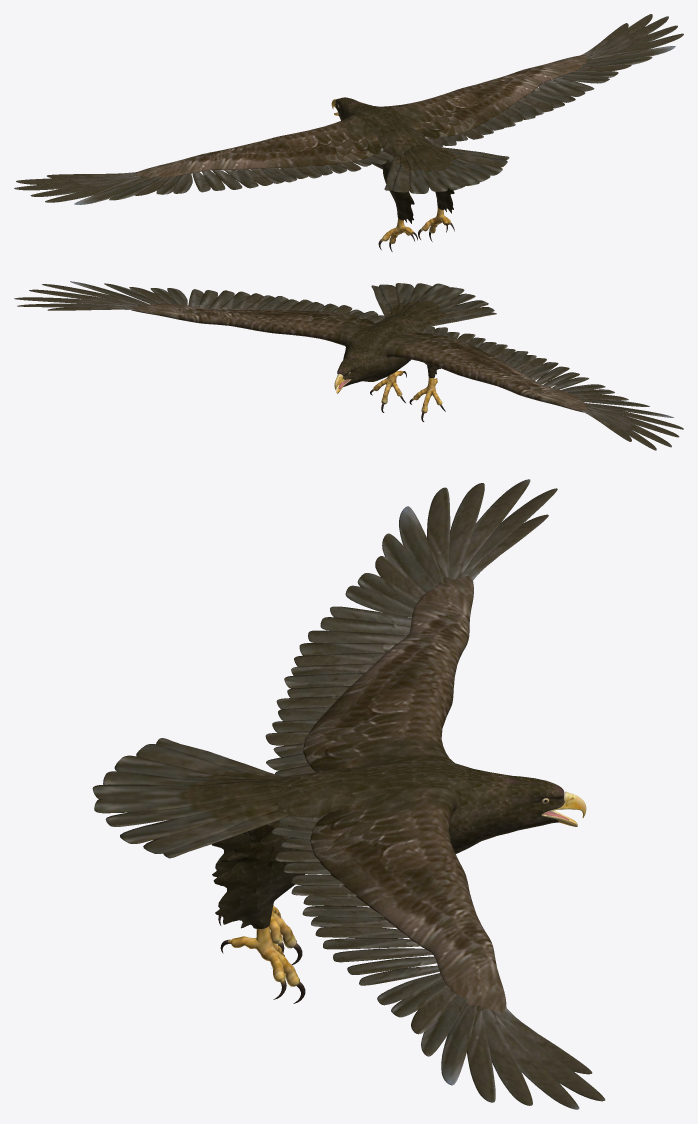
The model's file is EAGLE.FBX.
The picture shows the model from 3 angles, top to bottom: view 1: azimuth 30°, elevation 25°; view 2: azimuth 150°, elevation 25°; view 3: azimuth 270°, elevation 25°; orthographic projection. The views are drawn at different scales.
Visible parts, largest first — view 1: Object03; view 2: Object03; view 3: Object03.
Part boxes in pixels (x1,y1,x2,y2): Object03: [14, 14, 683, 251]; Object03: [14, 281, 683, 450]; Object03: [92, 479, 605, 1109].
Bounding box in the file's own units: 214 × 34.05 × 73.65.
Materials: 1 (1 with a texture image).
